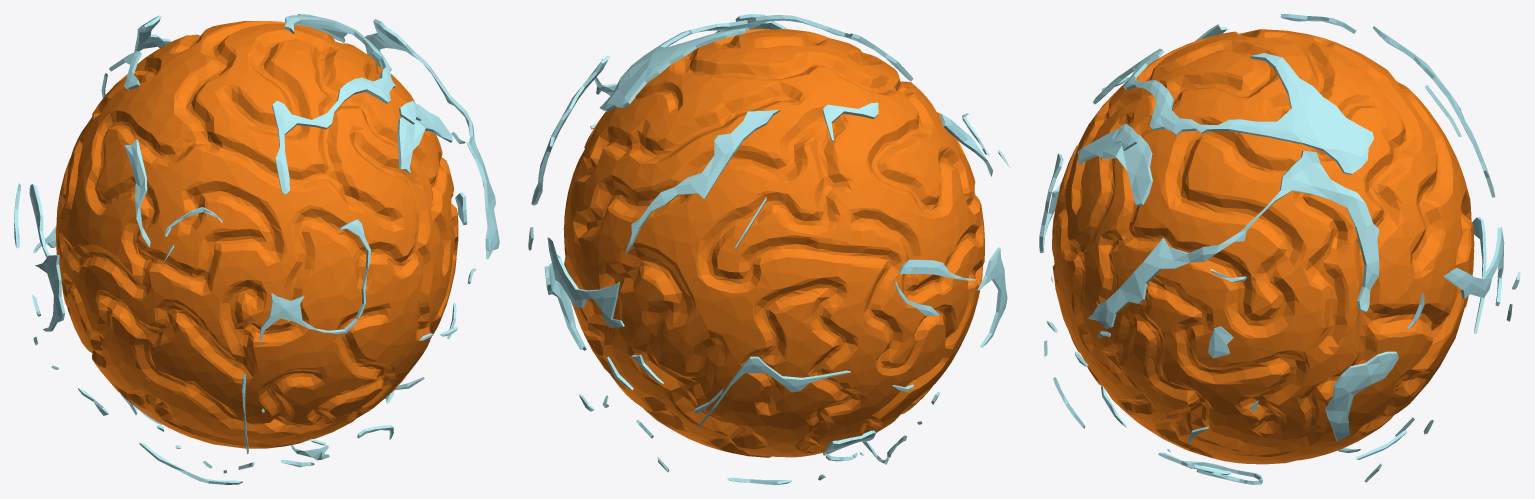
The model's file is Planet_34.glb.
3 renders of one model, left to right at view 1: azimuth 30°, elevation 25°; view 2: azimuth 150°, elevation 25°; view 3: azimuth 270°, elevation 25°, orthographic. The views are drawn at different scales.
Visible parts, largest first — view 1: Planet_34; view 2: Planet_34; view 3: Planet_34.
Boxes of the visible parts, <box> form: Planet_34: <box>14,14,499,484</box>; Planet_34: <box>528,14,1010,484</box>; Planet_34: <box>1039,14,1520,484</box>.
Bounding box in the file's own units: 22.14 × 21.68 × 22.12.
1 material, 1 textured.
